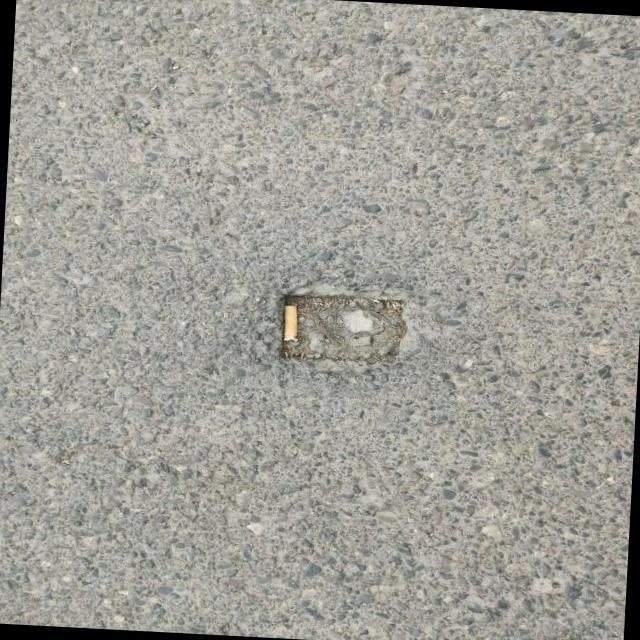Pothole: (282, 294, 408, 361)
